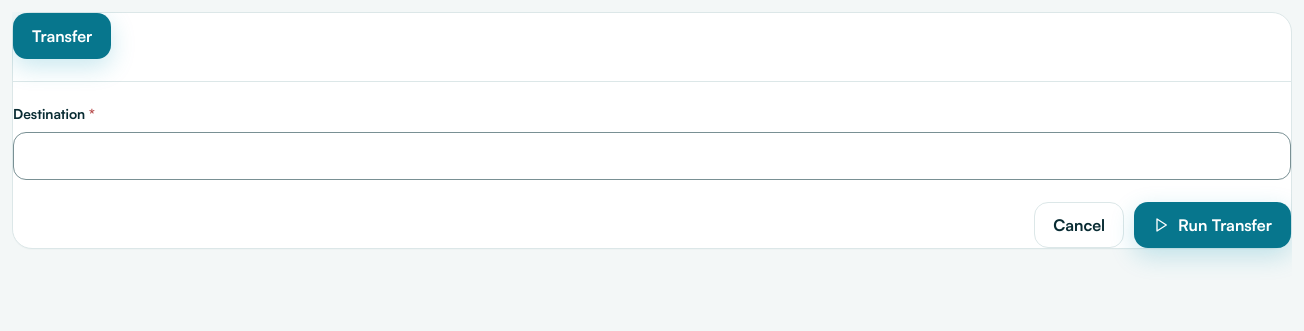
Test: ObjectActions › withdraws the confirmation when the destination changes
Type "obj_123" into the field labelled "Destination" at point(652, 156), box x1=13 y1=132 x2=1291 y2=180
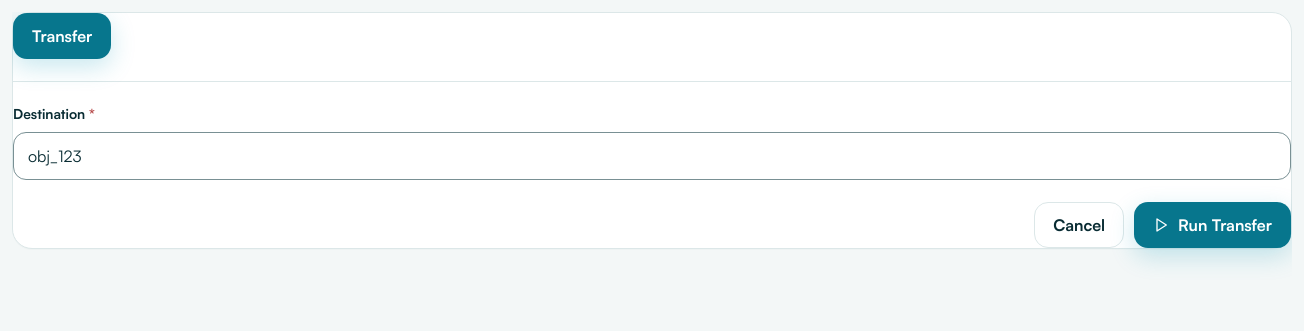
Click the button "Run Transfer" at point(1213, 225), box x1=1134 y1=202 x2=1291 y2=248
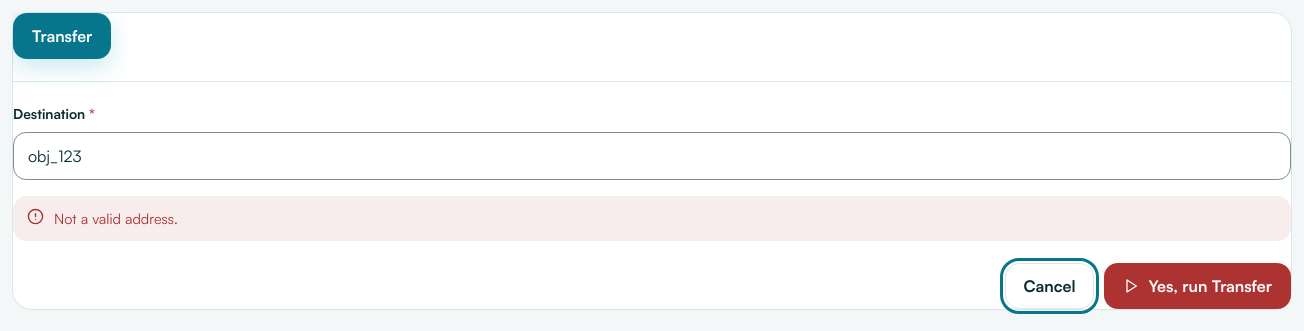
Check: the message "Not a valid address." is shown, box x1=13 y1=196 x2=1291 y2=241
Replace the text in the field labelled "Destination" with "0x1234567890abcdef1234567890abcdef12345f45" at point(652, 156), box x1=13 y1=132 x2=1291 y2=180
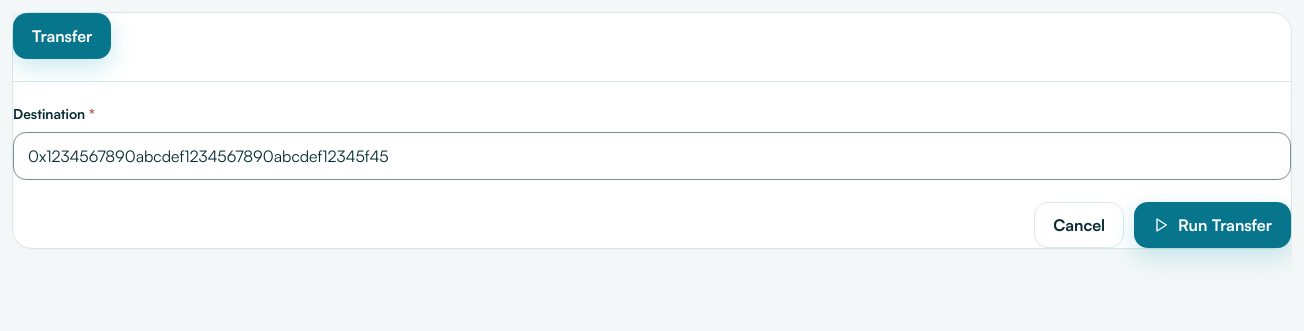
Check: the button "Run Transfer" is shown, box x1=1134 y1=202 x2=1291 y2=248
Check: the message "Not a valid address." is gone
